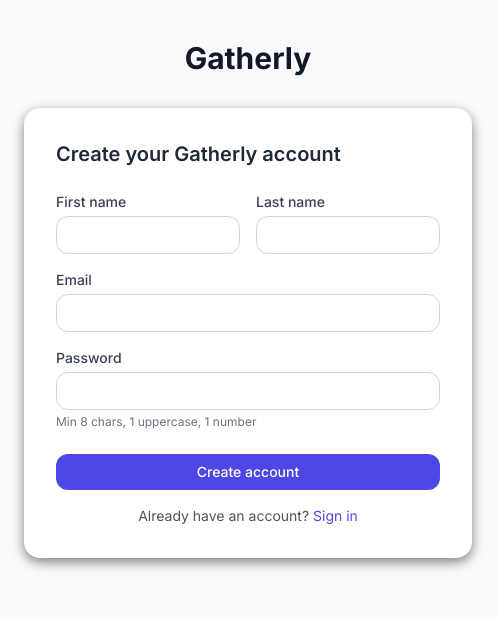
it: <RegisterForm> › displays 409 duplicate-email error as a field-level error
The image size is (497, 617).
In the field labelled "First name": (148, 235) [56,216,240,254], type "Test"
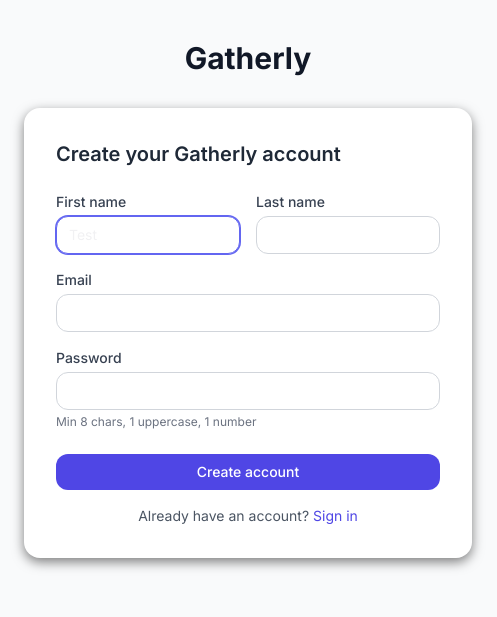
In the field labelled "Last name": (348, 235) [256,216,440,254], type "User"
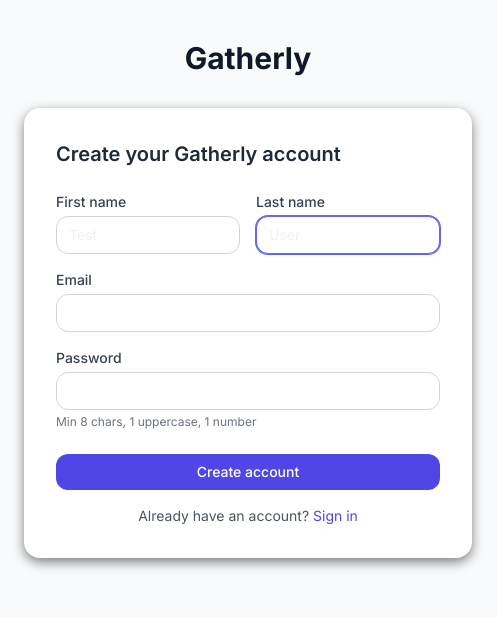
In the field labelled "Email": (248, 313) [56,294,440,332], type "existing@example.com"
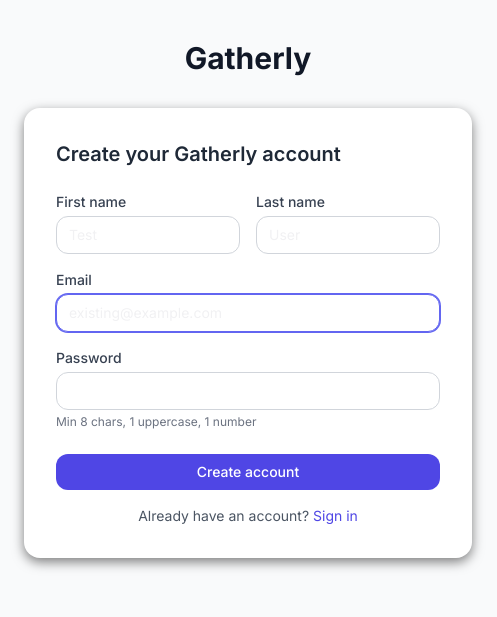
In the password field labelled "Password": (248, 391) [56,372,440,410], type "StrongPass1!"
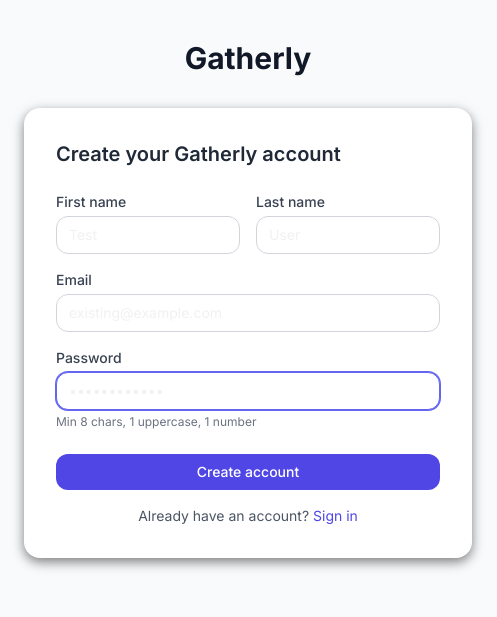
Click the button "Create account": (248, 472) [56,454,440,490]
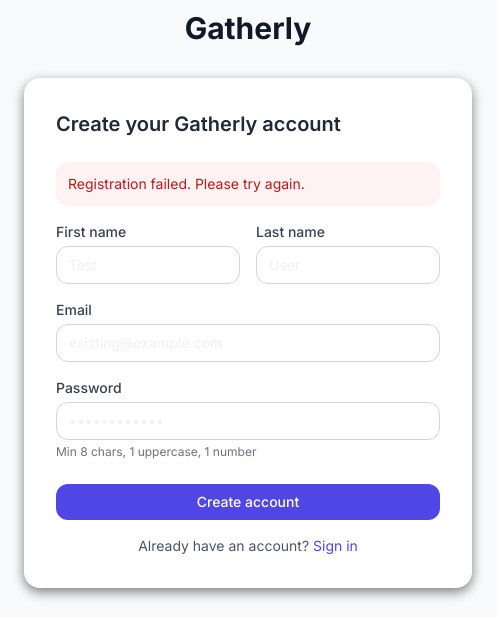
Expected: the message "Registration failed. Please try again." is shown, [56,162,440,206]
